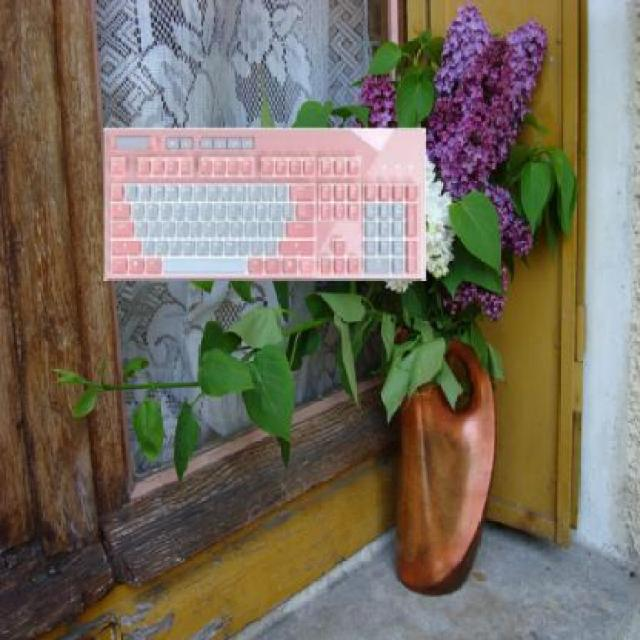keyboard: (93, 130, 441, 284)
